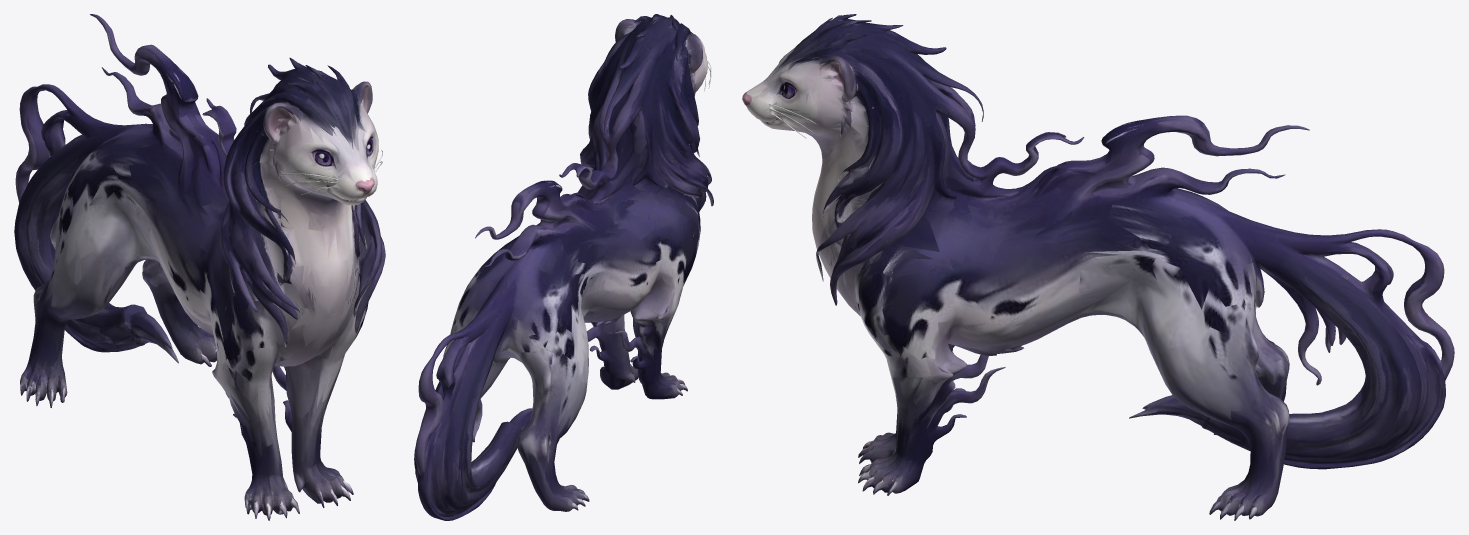
The picture shows the model from 3 angles, left to right: view 1: azimuth 30°, elevation 25°; view 2: azimuth 150°, elevation 25°; view 3: azimuth 270°, elevation 25°; orthographic projection. The views are drawn at different scales.
Visible parts, largest first — view 1: Mesh_0; view 2: Mesh_0; view 3: Mesh_0.
Part boxes in pixels (x1,y1,x2,y2): Mesh_0: (14, 14, 385, 520); Mesh_0: (414, 14, 713, 520); Mesh_0: (742, 14, 1454, 520).
Bounding box in the file's own units: 0.6266 × 1.33 × 1.9.
1 material, 1 textured.
